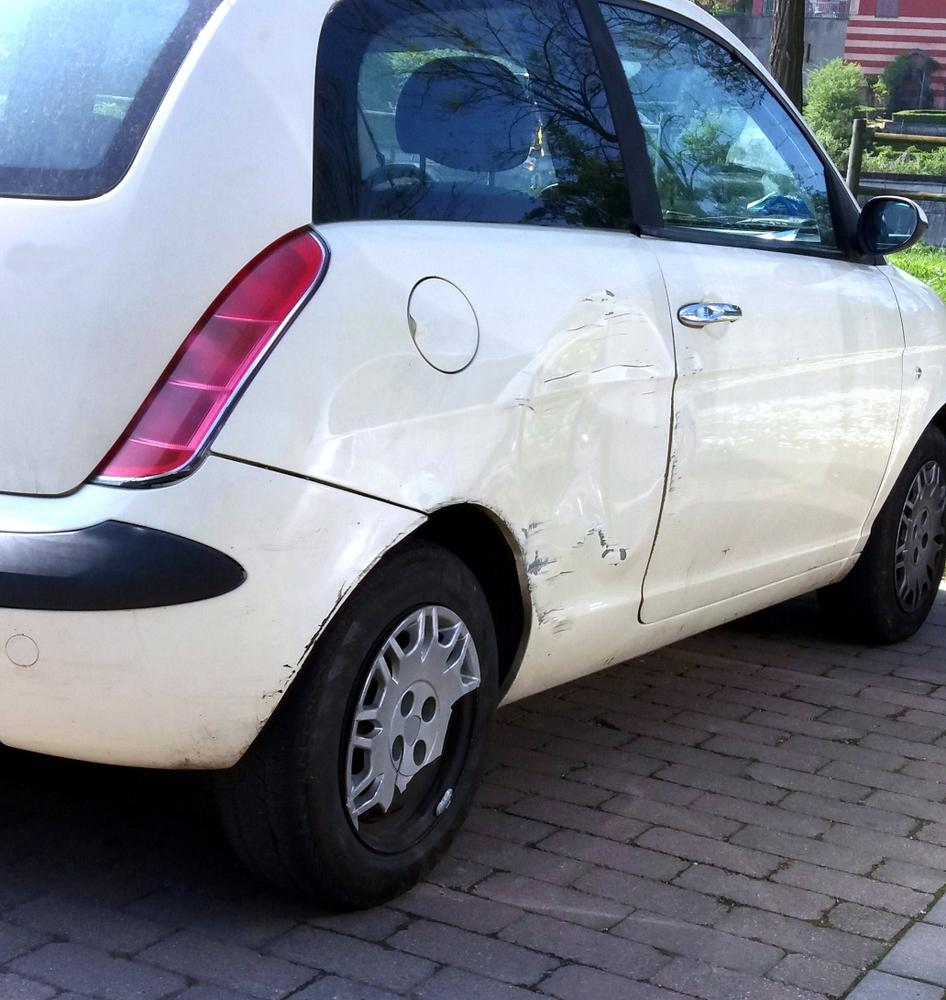dent: (325, 297, 675, 616)
